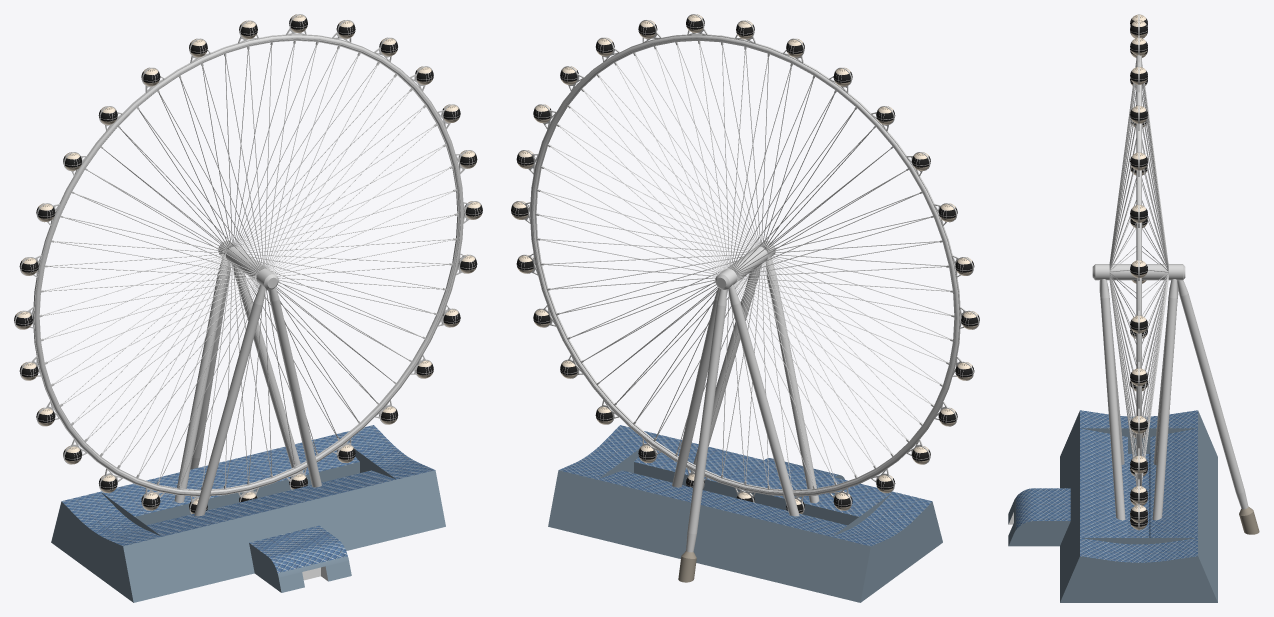
The model's file is roda_gigante_inteira.obj.
3 renders of one model, left to right at view 1: azimuth 30°, elevation 25°; view 2: azimuth 150°, elevation 25°; view 3: azimuth 270°, elevation 25°, orthographic. The views are drawn at different scales.
Visible parts, largest first — view 1: Nimbasa_City.001; view 2: Nimbasa_City.001; view 3: Nimbasa_City.001.
Part boxes in pixels (x1=…): Nimbasa_City.001: x1=14, y1=14, x2=482, y2=602; Nimbasa_City.001: x1=511, y1=14, x2=979, y2=602; Nimbasa_City.001: x1=1008, y1=14, x2=1259, y2=602.
Bounding box in the file's own units: 13.88 × 14.62 × 6.74.
